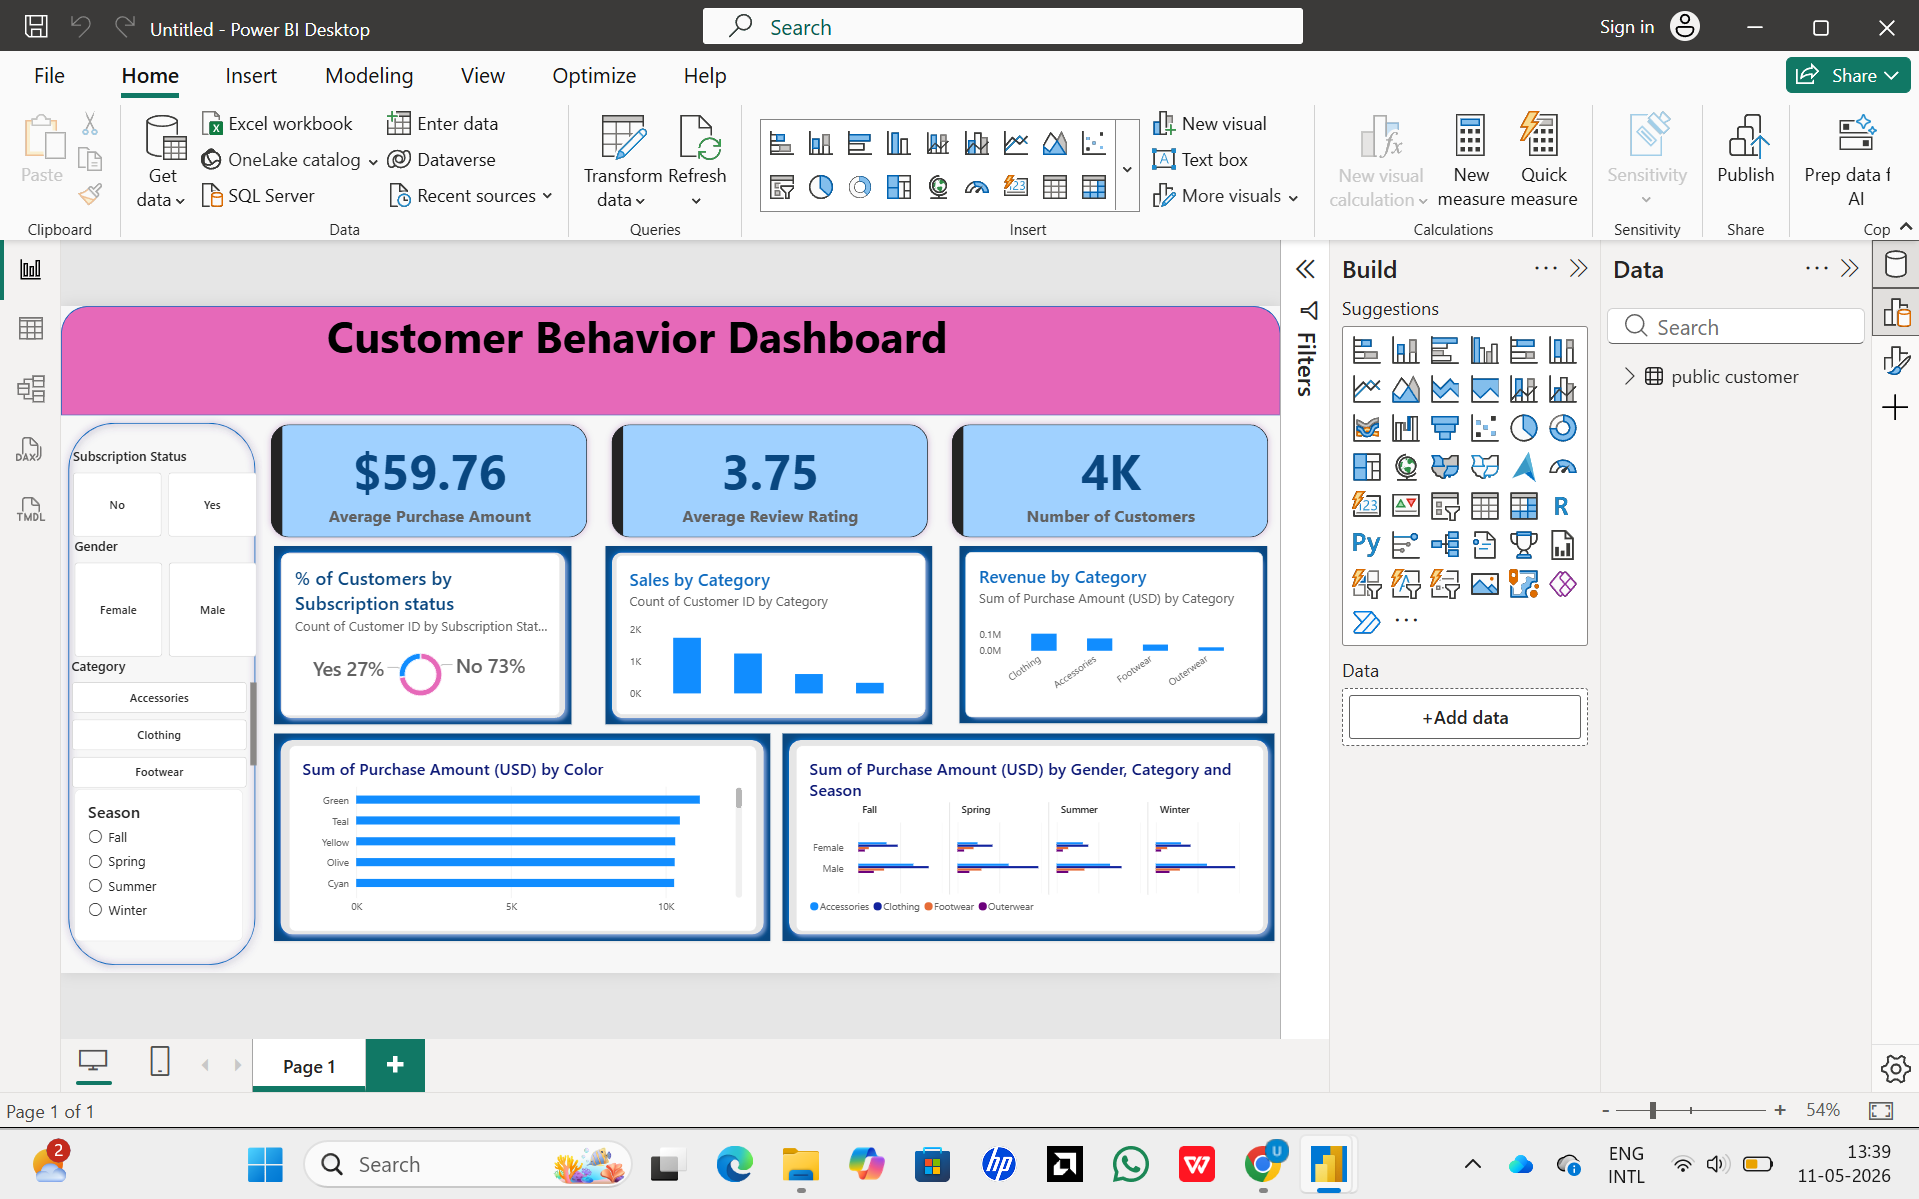

What the dashboard file says about the page in this screenshot:
{"tool":"powerbi","page":{"name":"Page 1","canvas":[1500,820],"ordinal":0},"visuals":[{"type":"cardVisual","fields":{"Data":["public customer.Average Purchase Amount","public customer.Average Review Rating","public customer.Number of Customers"]},"box":[248.1,135.2,1251.9,161.1],"z":0},{"type":"shape","box":[0,0,1500.6,134.7],"z":1000},{"type":"textbox","box":[144.6,0,1050.3,135.2],"z":2000},{"type":"shape","box":[262.5,294.6,366.1,219.6],"z":3000},{"type":"donutChart","title":"% of Customers by Subscription status","fields":{"Category":["public customer.Subscription Status"],"Y":["CountNonNull(public customer.Customer ID)"]},"box":[271.4,305.4,342.9,200],"z":4000},{"type":"shape","box":[669.6,294.6,401.8,219.6],"z":5000},{"type":"shape","box":[1105.4,294.6,378.6,217.9],"z":6000},{"type":"clusteredColumnChart","title":"Revenue by Category","fields":{"Category":["public customer.Category"],"Y":["Sum(public customer.Purchase Amount (USD))"]},"box":[1112.5,303.6,366.1,203.6],"z":7000},{"type":"clusteredColumnChart","title":"Sales by Category","fields":{"Category":["public customer.Category"],"Y":["CountNonNull(public customer.Customer ID)"]},"box":[682.1,307.1,380.4,196.4],"z":8000},{"type":"shape","box":[0,135.2,248.1,685.2],"z":9000},{"type":"advancedSlicerVisual","fields":{"Values":["public customer.Subscription Status"]},"box":[14.3,173.2,226.8,110.7],"z":10000},{"type":"advancedSlicerVisual","fields":{"Values":["public customer.Gender"]},"box":[16.1,283.9,225,148.2],"z":11000},{"type":"advancedSlicerVisual","fields":{"Values":["public customer.Category"]},"box":[12.5,432.1,228.6,162.5],"z":12000},{"type":"listSlicer","fields":{"Values":["public customer.Season"]},"box":[16.1,594.6,207.1,187.5],"z":13000},{"type":"shape","box":[262.5,526.8,610.7,255.4],"z":13002},{"type":"shape","box":[887.5,526.8,605.4,255.4],"z":13003},{"type":"clusteredBarChart","fields":{"Category":["public customer.Gender"],"Rows":["public customer.Season"],"Series":["public customer.Category"],"Y":["Sum(public customer.Purchase Amount (USD))"]},"box":[903.6,541.1,575,228.6],"z":13004},{"type":"clusteredBarChart","fields":{"Category":["public customer.Color"],"Y":["Sum(public customer.Purchase Amount (USD))"]},"box":[280.4,541.1,575,228.6],"z":13005}]}

Visuals, with their boxes on the page's 1500x820 design canvas (x1, y1, x2, y2). These are canvas units, not pixel positions in the 1919x1199 screenshot, which may show the page scaled, cropped or inside an application window:
cardVisual - public customer.Average Purchase Amount x public customer.Average Review Rating: <region>248, 135, 1500, 296</region>
shape: <region>0, 0, 1501, 135</region>
textbox: <region>145, 0, 1195, 135</region>
shape: <region>262, 295, 629, 514</region>
"% of Customers by Subscription status" donutChart: <region>271, 305, 614, 505</region>
shape: <region>670, 295, 1071, 514</region>
shape: <region>1105, 295, 1484, 512</region>
"Revenue by Category" clusteredColumnChart: <region>1112, 304, 1479, 507</region>
"Sales by Category" clusteredColumnChart: <region>682, 307, 1062, 504</region>
shape: <region>0, 135, 248, 820</region>
advancedSlicerVisual - public customer.Subscription Status: <region>14, 173, 241, 284</region>
advancedSlicerVisual - public customer.Gender: <region>16, 284, 241, 432</region>
advancedSlicerVisual - public customer.Category: <region>12, 432, 241, 595</region>
listSlicer - public customer.Season: <region>16, 595, 223, 782</region>
shape: <region>262, 527, 873, 782</region>
shape: <region>888, 527, 1493, 782</region>
clusteredBarChart - public customer.Gender x public customer.Season: <region>904, 541, 1479, 770</region>
clusteredBarChart - public customer.Color x Sum(public customer.Purchase Amount (USD)): <region>280, 541, 855, 770</region>
